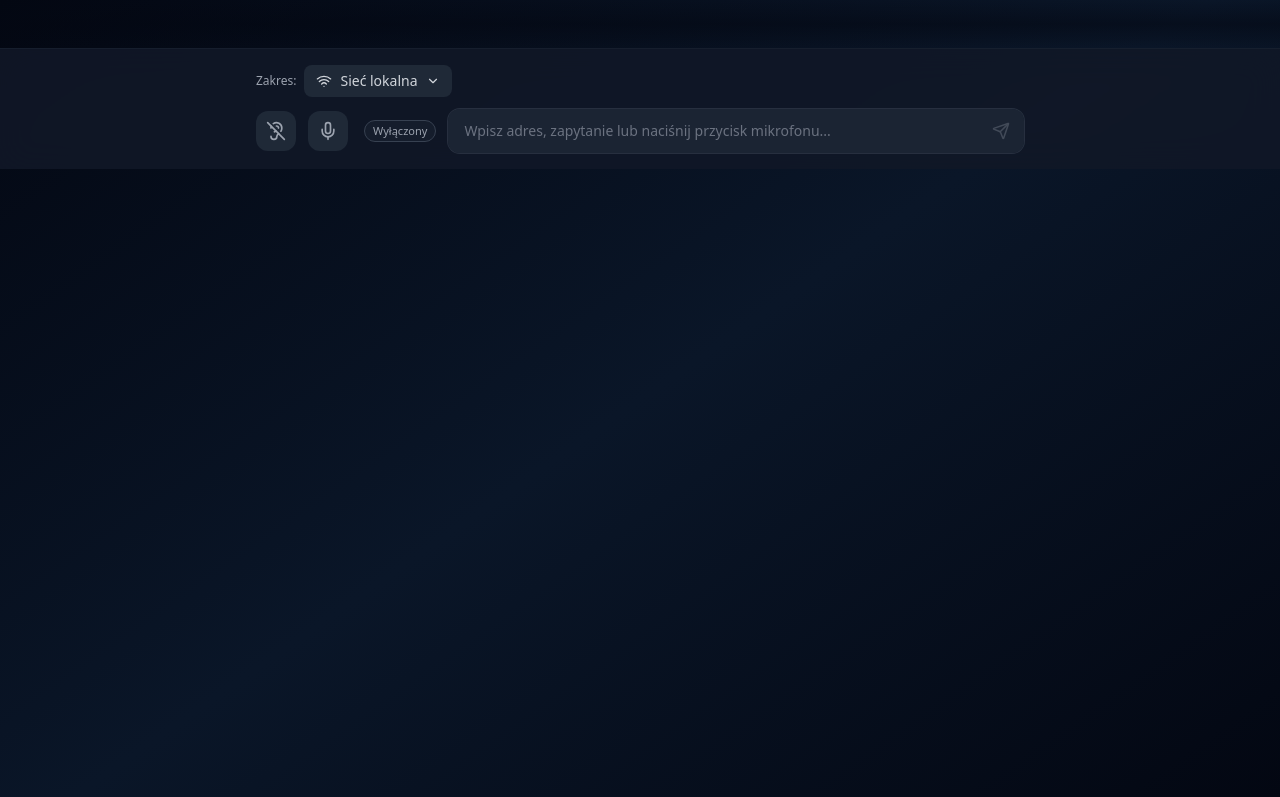
Scenario: Chat — browse flow › gdy plugin zwraca Command not found — pokazuje fallback z config prompt i akcjami
Type "sprawdź status kamer" into the field with placeholder "Wpisz adres, zapytanie lub naciśnij przycisk mikrofonu...". click: (736, 131)
box: [448,109,1024,153]
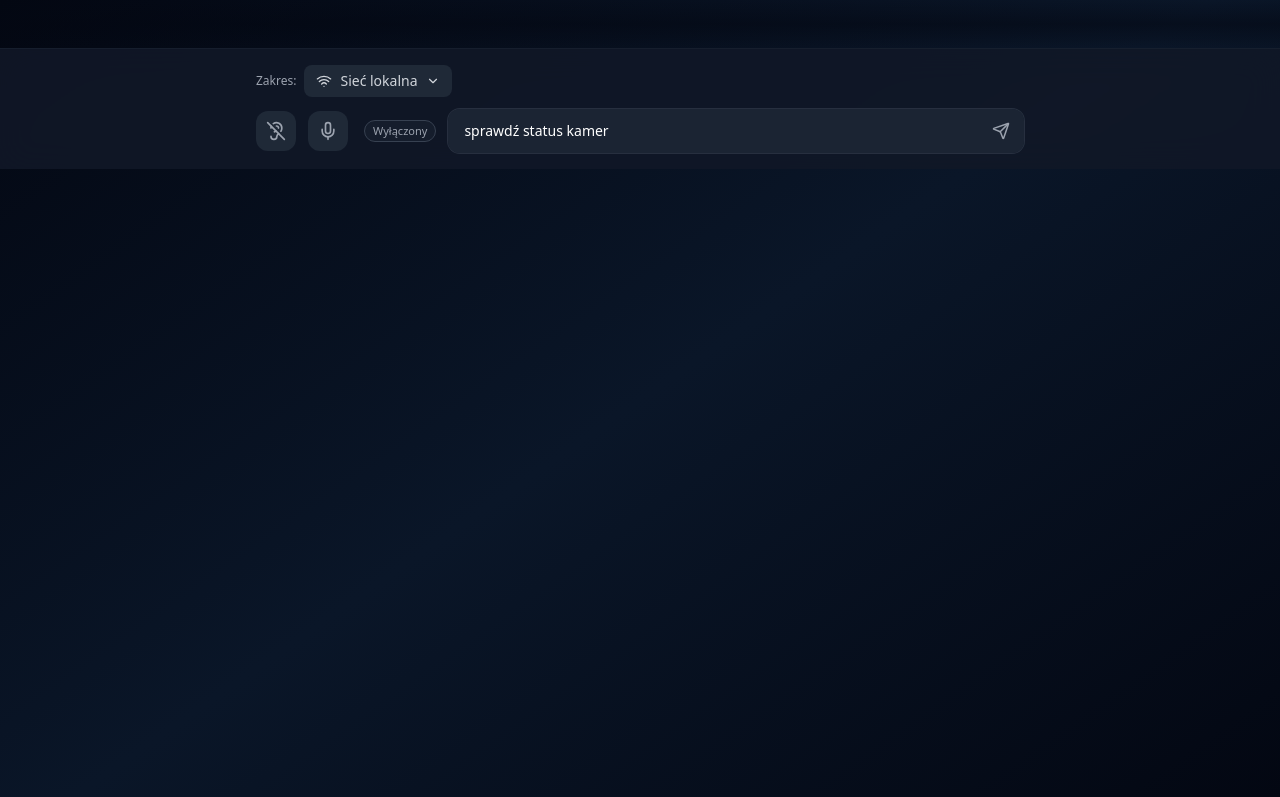
Press Enter in the field with placeholder "Wpisz adres, zapytanie lub naciśnij przycisk mikrofonu...", box [448,109,1024,153]
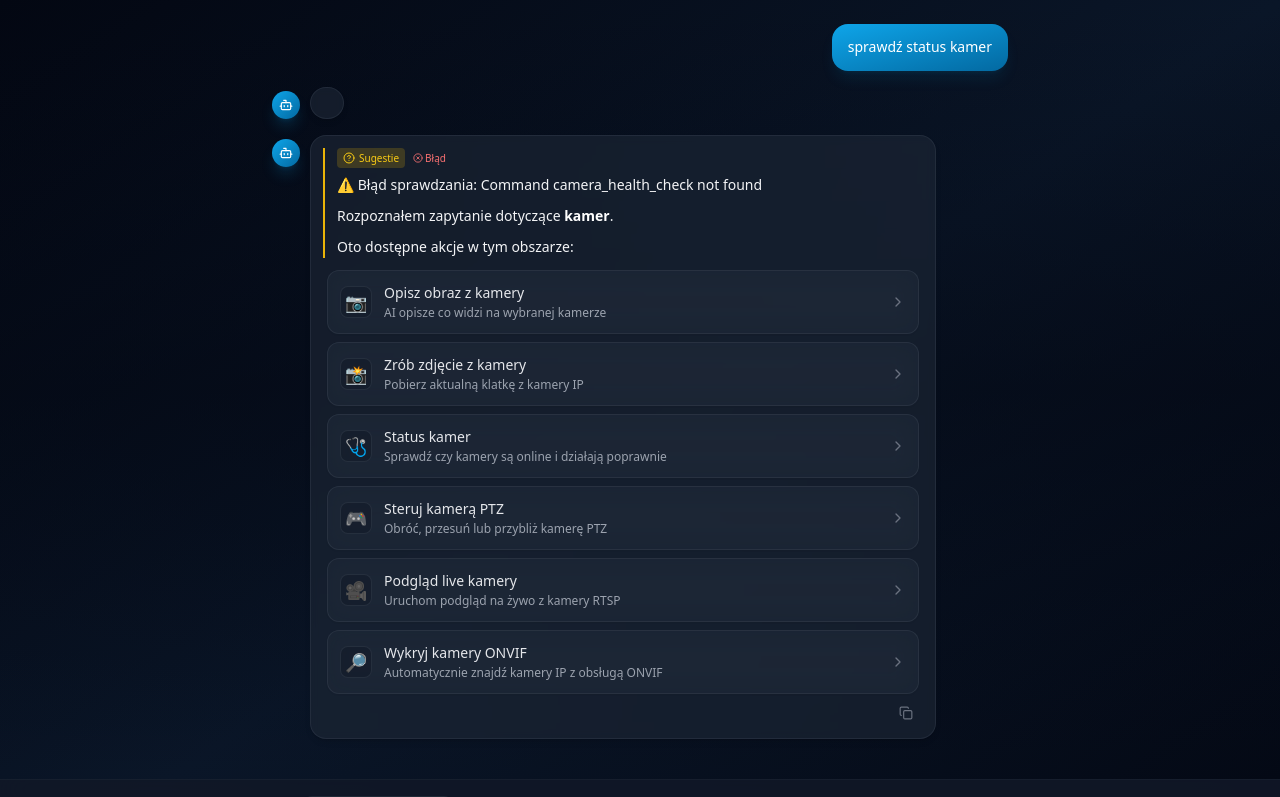
Result: the element with test id "config-prompt" is shown at [327,270,919,694]
Result: the button with test id "config-card-" is shown at [327,270,919,334]
